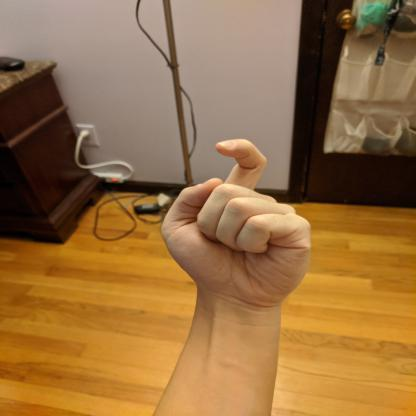X: (154, 136, 318, 312)
